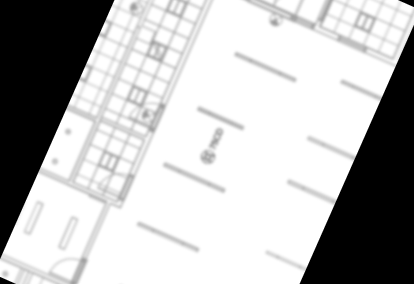door: (94, 160, 134, 201), (46, 246, 88, 284), (126, 92, 164, 131), (220, 0, 251, 4)
double door: (248, 0, 307, 21)
window: (332, 30, 372, 59), (286, 9, 317, 35)
